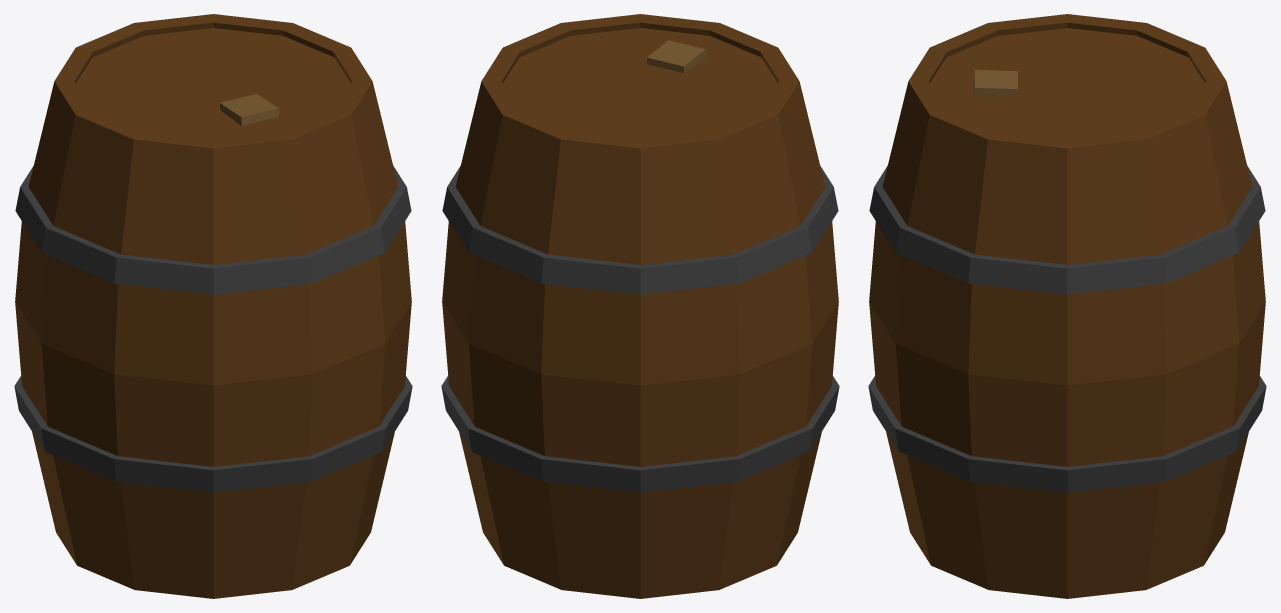
File: WoodBarrel_ExtraCurved.fbx
3 views of the same model, side by side, from view 1: azimuth 30°, elevation 25°; view 2: azimuth 150°, elevation 25°; view 3: azimuth 270°, elevation 25° (orthographic).
Visible parts, largest first — view 1: WoodBarrel_ExtraCurved; view 2: WoodBarrel_ExtraCurved; view 3: WoodBarrel_ExtraCurved.
Boxes of the visible parts, <box> form: WoodBarrel_ExtraCurved: <box>14,14,412,598</box>; WoodBarrel_ExtraCurved: <box>441,14,839,598</box>; WoodBarrel_ExtraCurved: <box>868,14,1266,598</box>.
Size of the model in its own units: 122 by 153 by 122.
